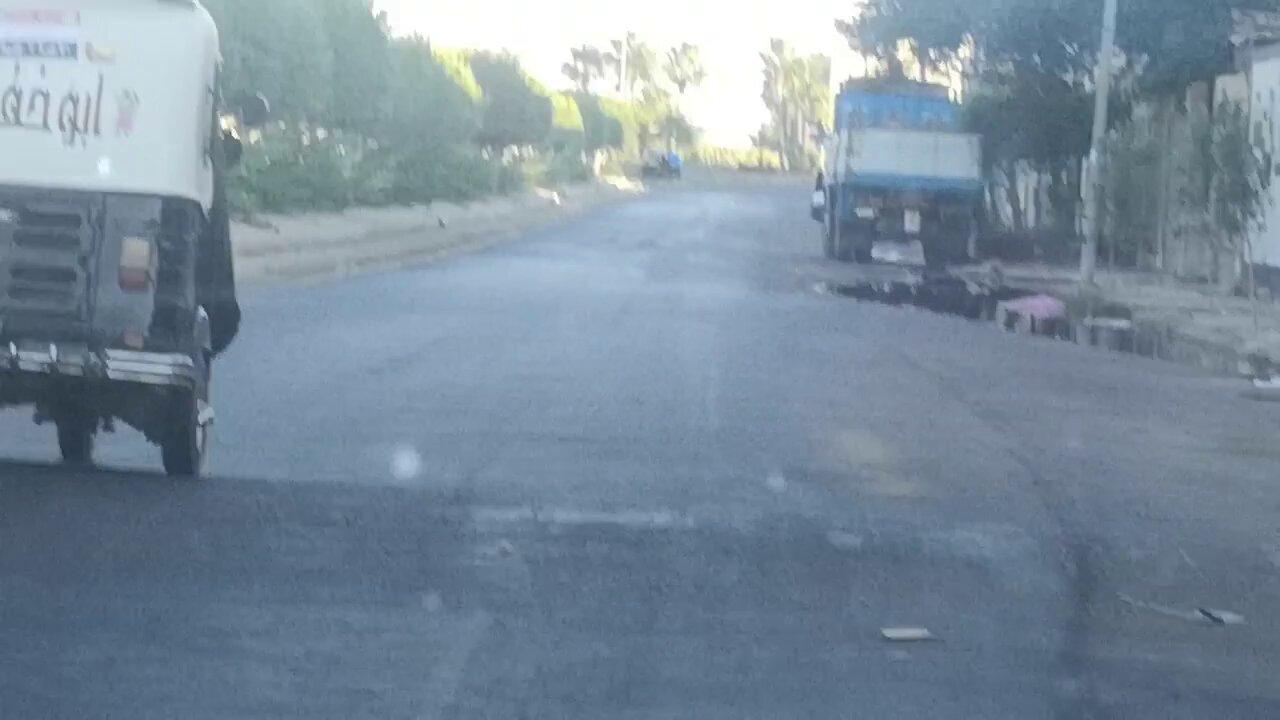Bump: (0, 453, 1280, 622)
